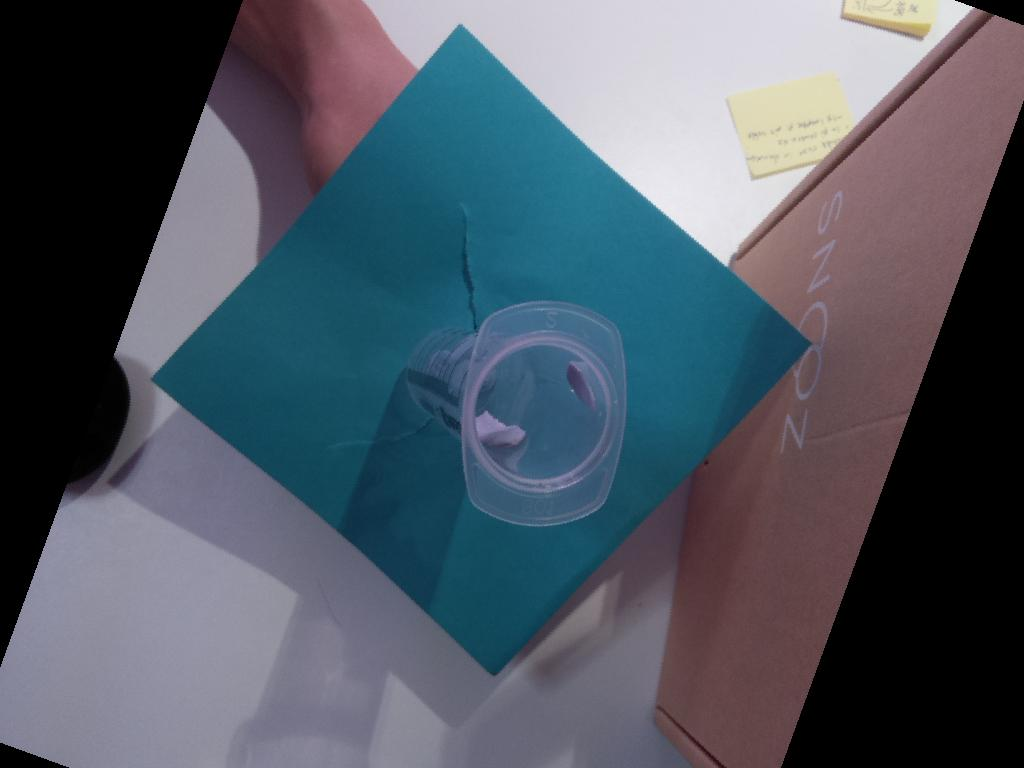dirty: (460, 300, 629, 526)
